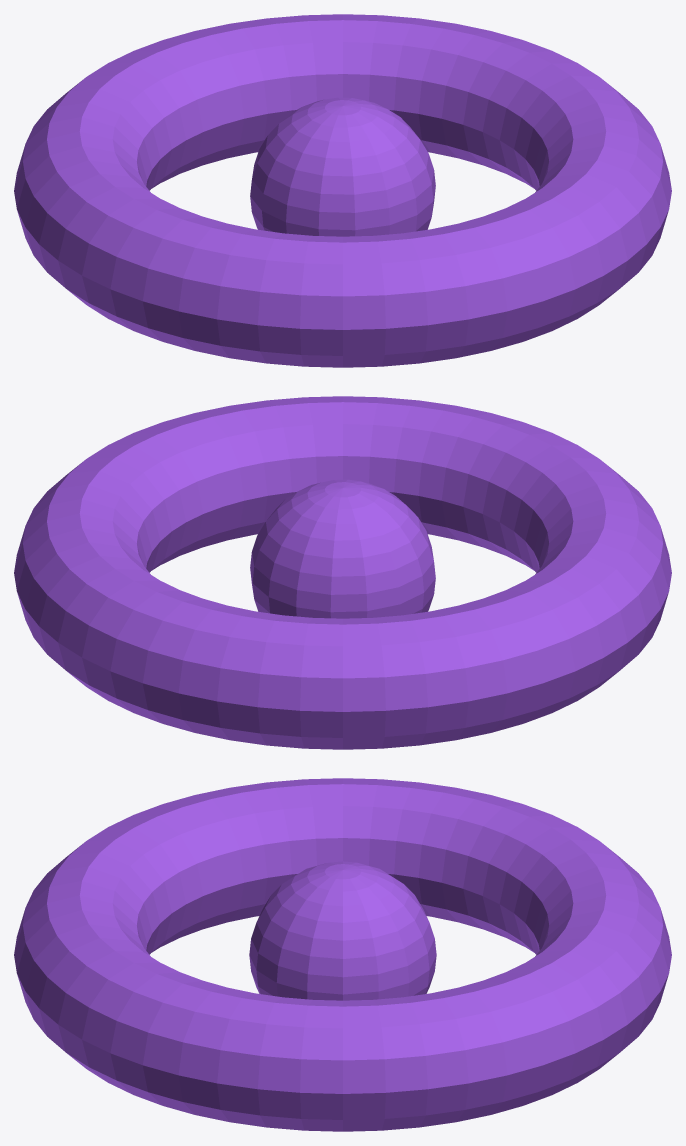
The model's file is last_player_position.fbx.
The picture shows the model from 3 angles, top to bottom: view 1: azimuth 30°, elevation 25°; view 2: azimuth 150°, elevation 25°; view 3: azimuth 270°, elevation 25°; orthographic projection.
Visible parts, largest first — view 1: Last Player Position, Sphere; view 2: Last Player Position, Sphere; view 3: Last Player Position, Sphere.
Boxes of the visible parts, bbox=[...] form: Last Player Position: bbox=[14, 14, 671, 367]; Sphere: bbox=[250, 97, 435, 236]; Last Player Position: bbox=[14, 396, 671, 749]; Sphere: bbox=[250, 479, 435, 618]; Last Player Position: bbox=[14, 778, 671, 1131]; Sphere: bbox=[249, 861, 436, 1000].
Size of the model in its own units: 110 by 31.34 by 110.
